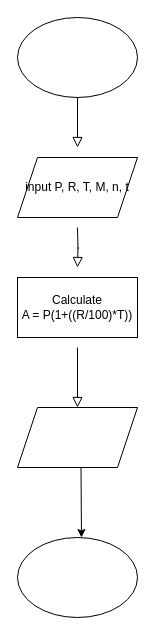
Image size: 155x635. Some labels were removed from this diagram. The shapes that lost their labels are listed below. From the top down, each one's centre as x and y in pixels, then its label:
(x=77, y=57): Start
(x=77, y=437): Output A
